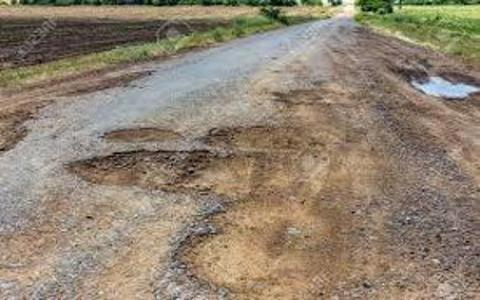patchy roads: (41, 101, 274, 258)
